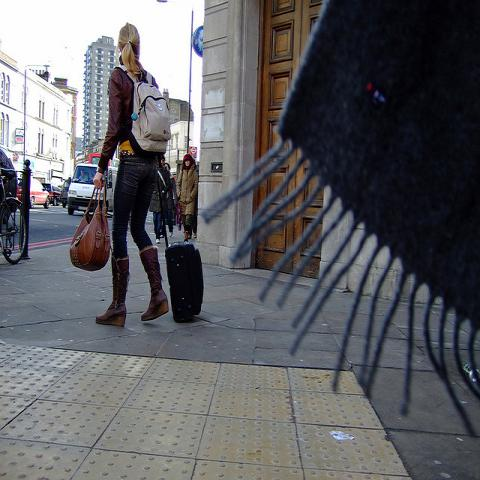car: (68, 165, 120, 215), (16, 178, 50, 210), (42, 182, 64, 207), (60, 180, 70, 209)
